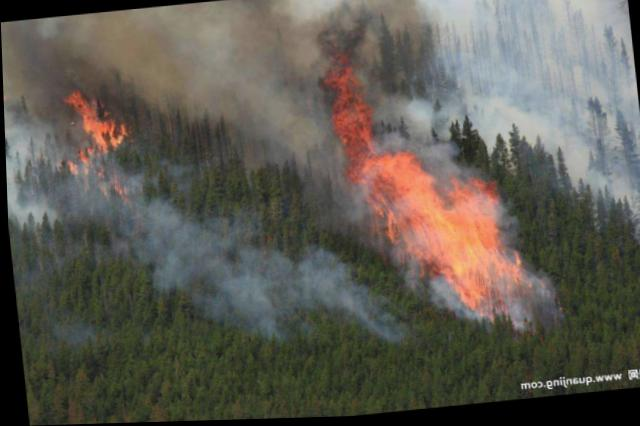fire: (317, 35, 539, 327), (46, 82, 135, 199)
